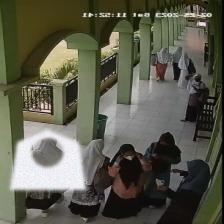Mukena: (10, 130, 85, 189)
